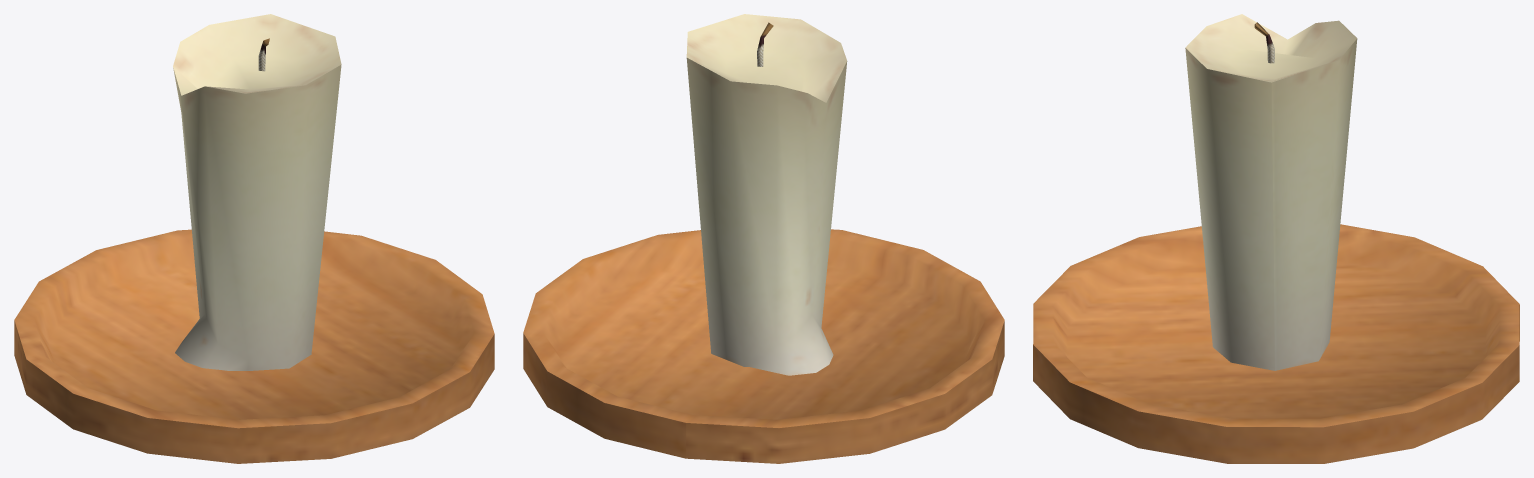
File: Ht_lazhu_02.FBX
3 views of the same model, side by side, from view 1: azimuth 30°, elevation 25°; view 2: azimuth 150°, elevation 25°; view 3: azimuth 270°, elevation 25° (orthographic). The views are drawn at different scales.
Parts seen in each view (by area): view 1: Ht_lazhu_02; view 2: Ht_lazhu_02; view 3: Ht_lazhu_02.
Part boxes in pixels (x1,y1,x2,y2): Ht_lazhu_02: (14, 14, 494, 463); Ht_lazhu_02: (523, 14, 1004, 463); Ht_lazhu_02: (1033, 14, 1519, 463).
Bounding box in the file's own units: 27.75 × 21.42 × 27.75.
